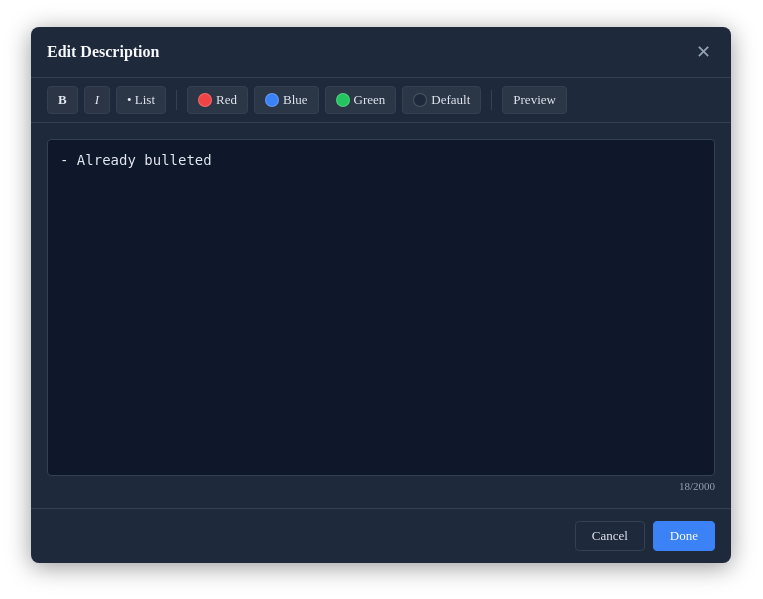
Test case: DescriptionModal › toolbar bullet button › removes bullet prefix if already present
What coordinates should you click on to do the following:
click the button with test id "toolbar-bullet"
I would click on:
 (141, 100)
Its box is [116,86,166,114].
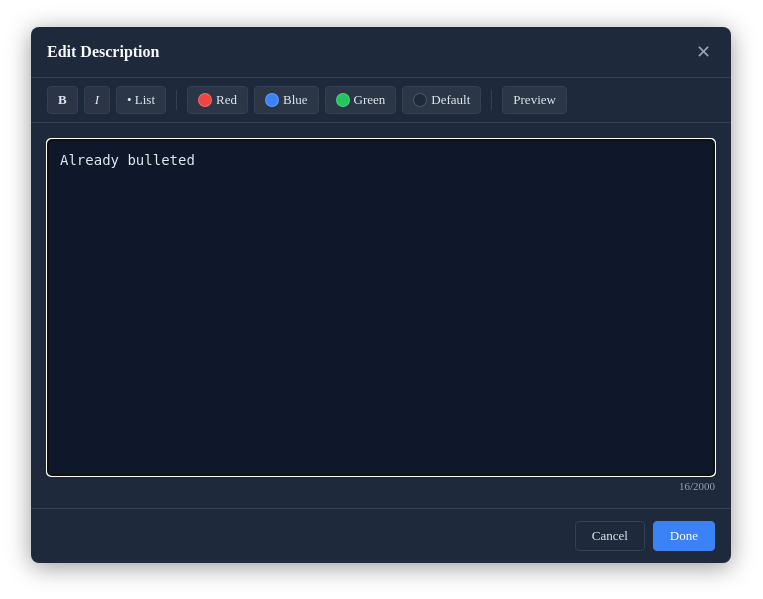
Check: the text box with test id "description-modal-textarea" holds "Already bulleted", box [47,139,715,476]
